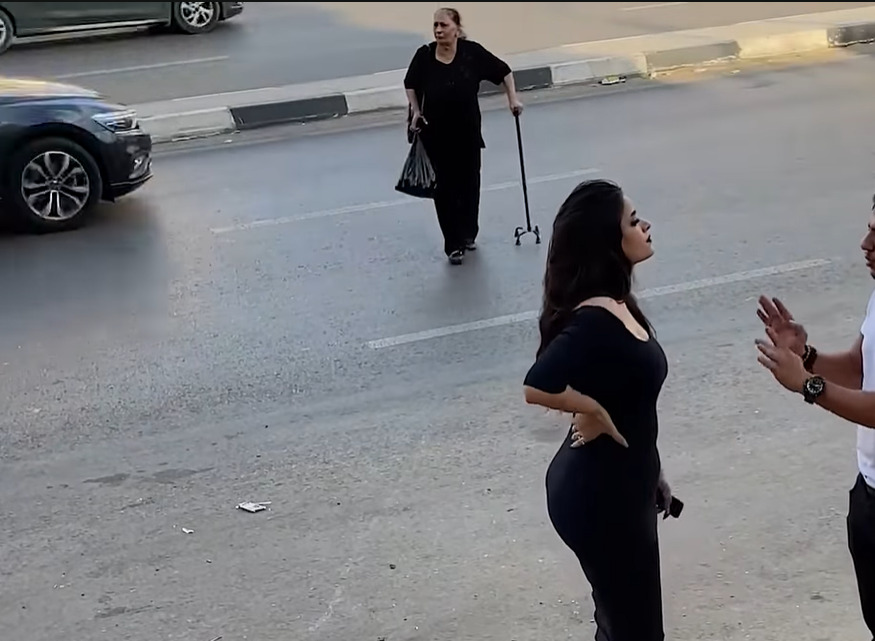person: (523, 173, 684, 641), (401, 7, 523, 265)
